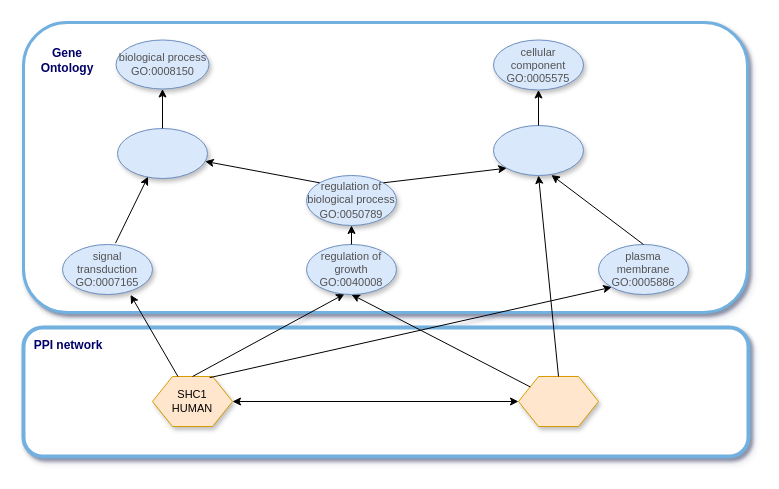
The diagram is 779 pixels wide and 489 high, and some of its shapes have lost their labels. Each missing label, with the centre of its shape:
biological regulation GO:0065007: (163,155)
CEACAM1 HUMAN: (559,403)
membrane GO:0016020: (539,151)
